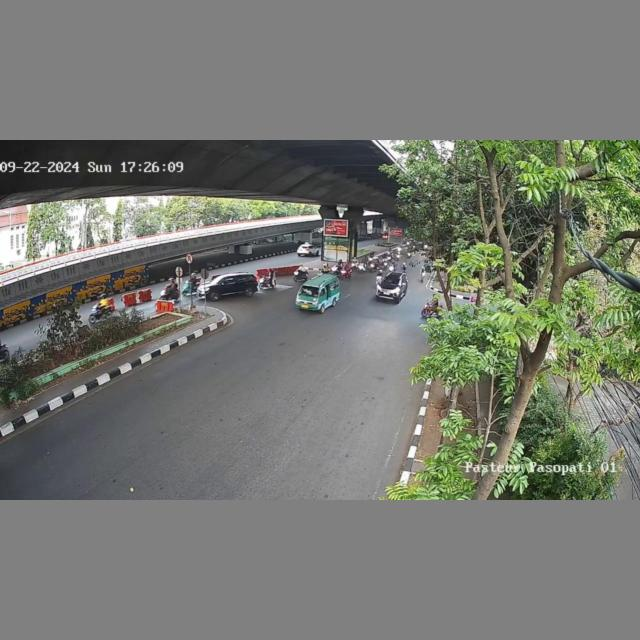windshield: (299, 285, 319, 296), (384, 277, 401, 284)
